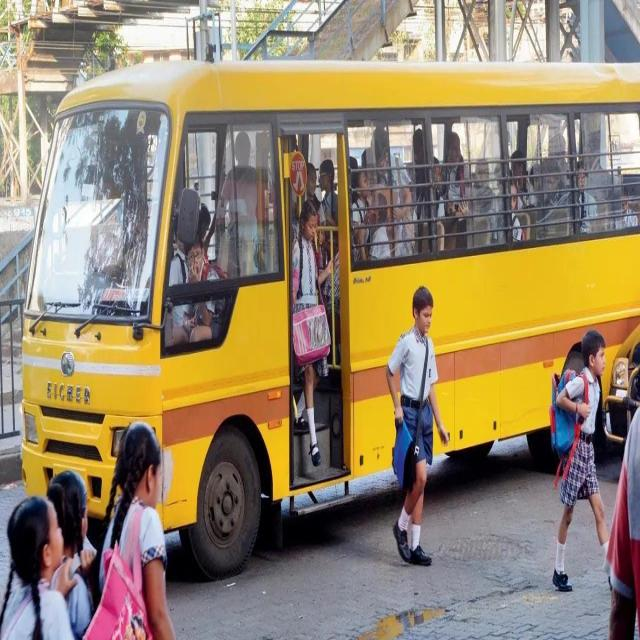bus: (17, 51, 640, 571)
